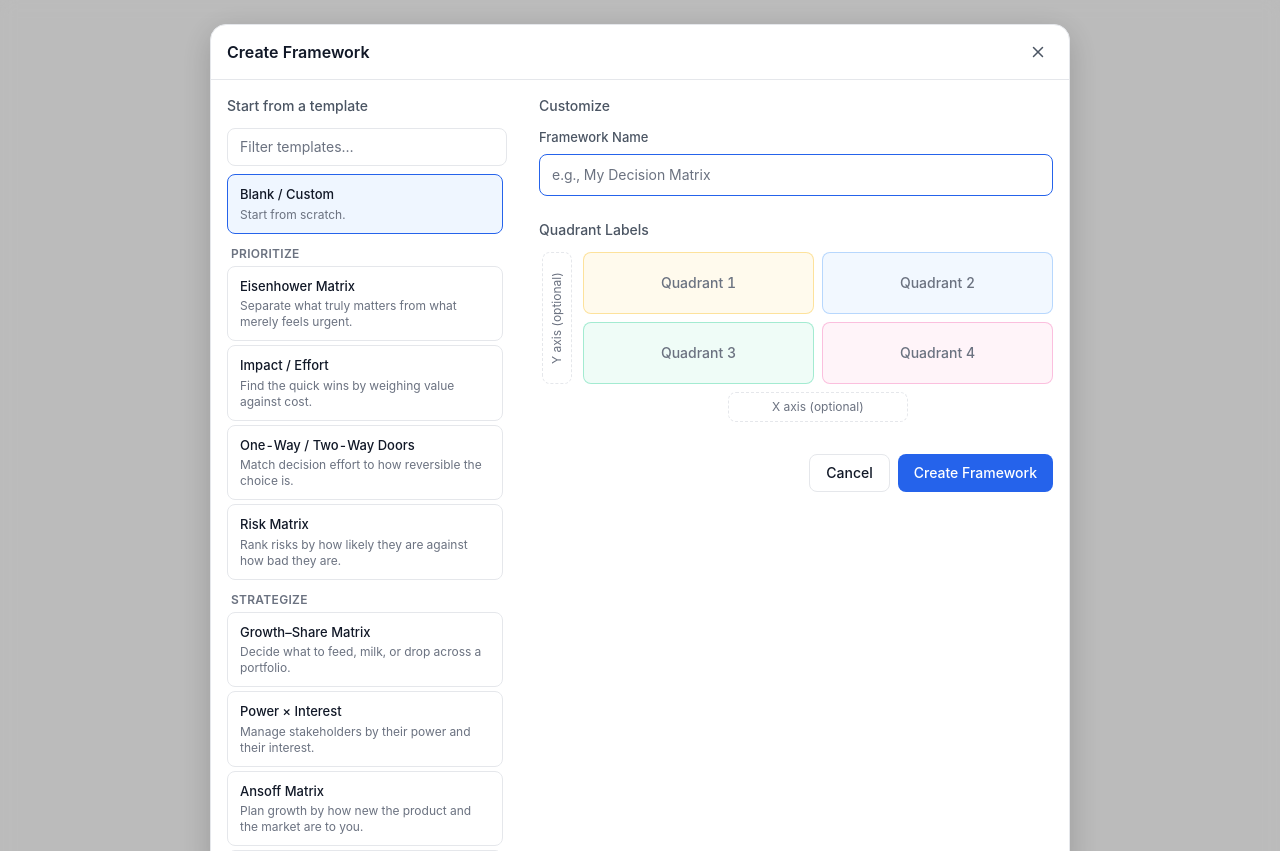
FrameworkBuilderModal › filters the list by name as the user types
Type "risk" into the search field labelled "Filter templates…" at (367, 147), box [227,128,507,166]
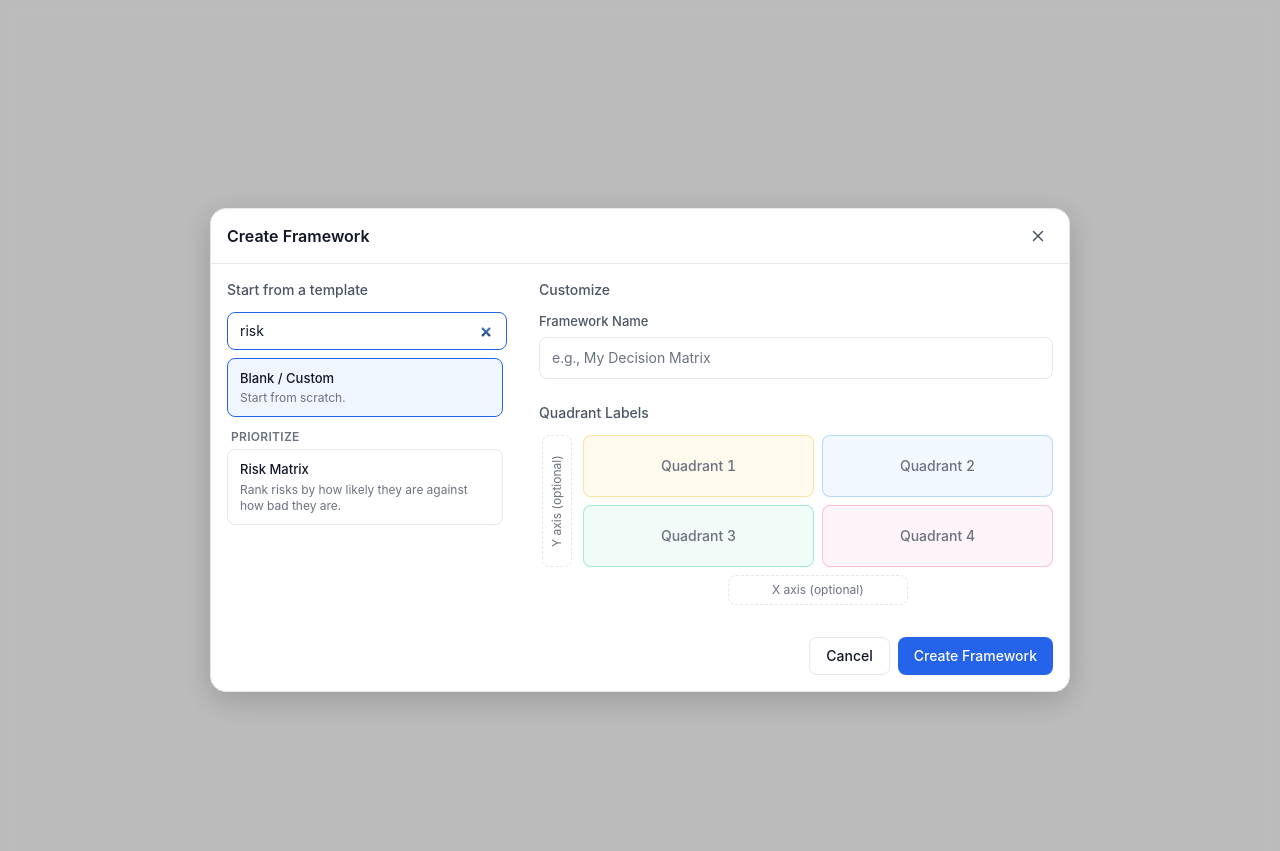
Expected: the button "Risk Matrix" is shown, [227,449,503,525]
Result: the button "Eisenhower Matrix" is gone
